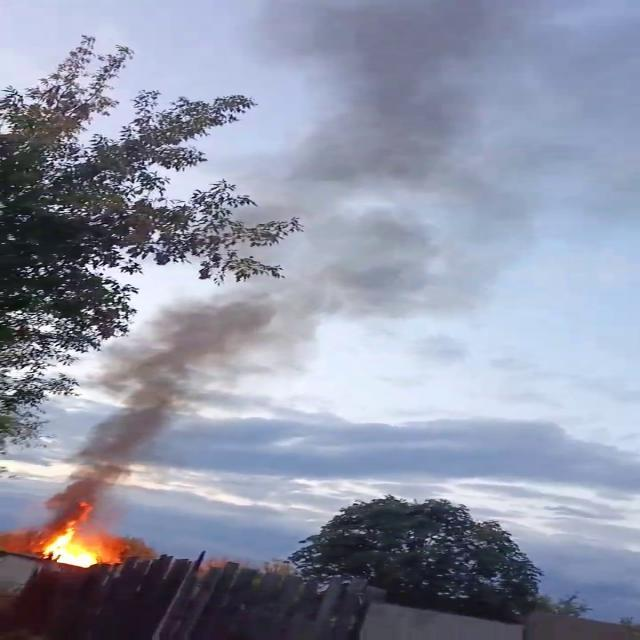Fire: (34, 519, 110, 569)
Smoke: (215, 0, 640, 293), (51, 278, 272, 510)
